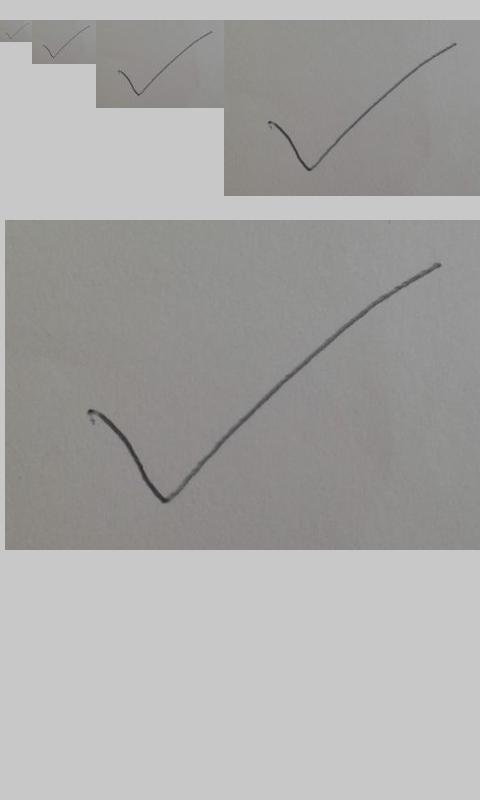check_box: (89, 264, 440, 505), (268, 42, 455, 173), (117, 31, 211, 96), (42, 25, 90, 58), (5, 24, 26, 40)
